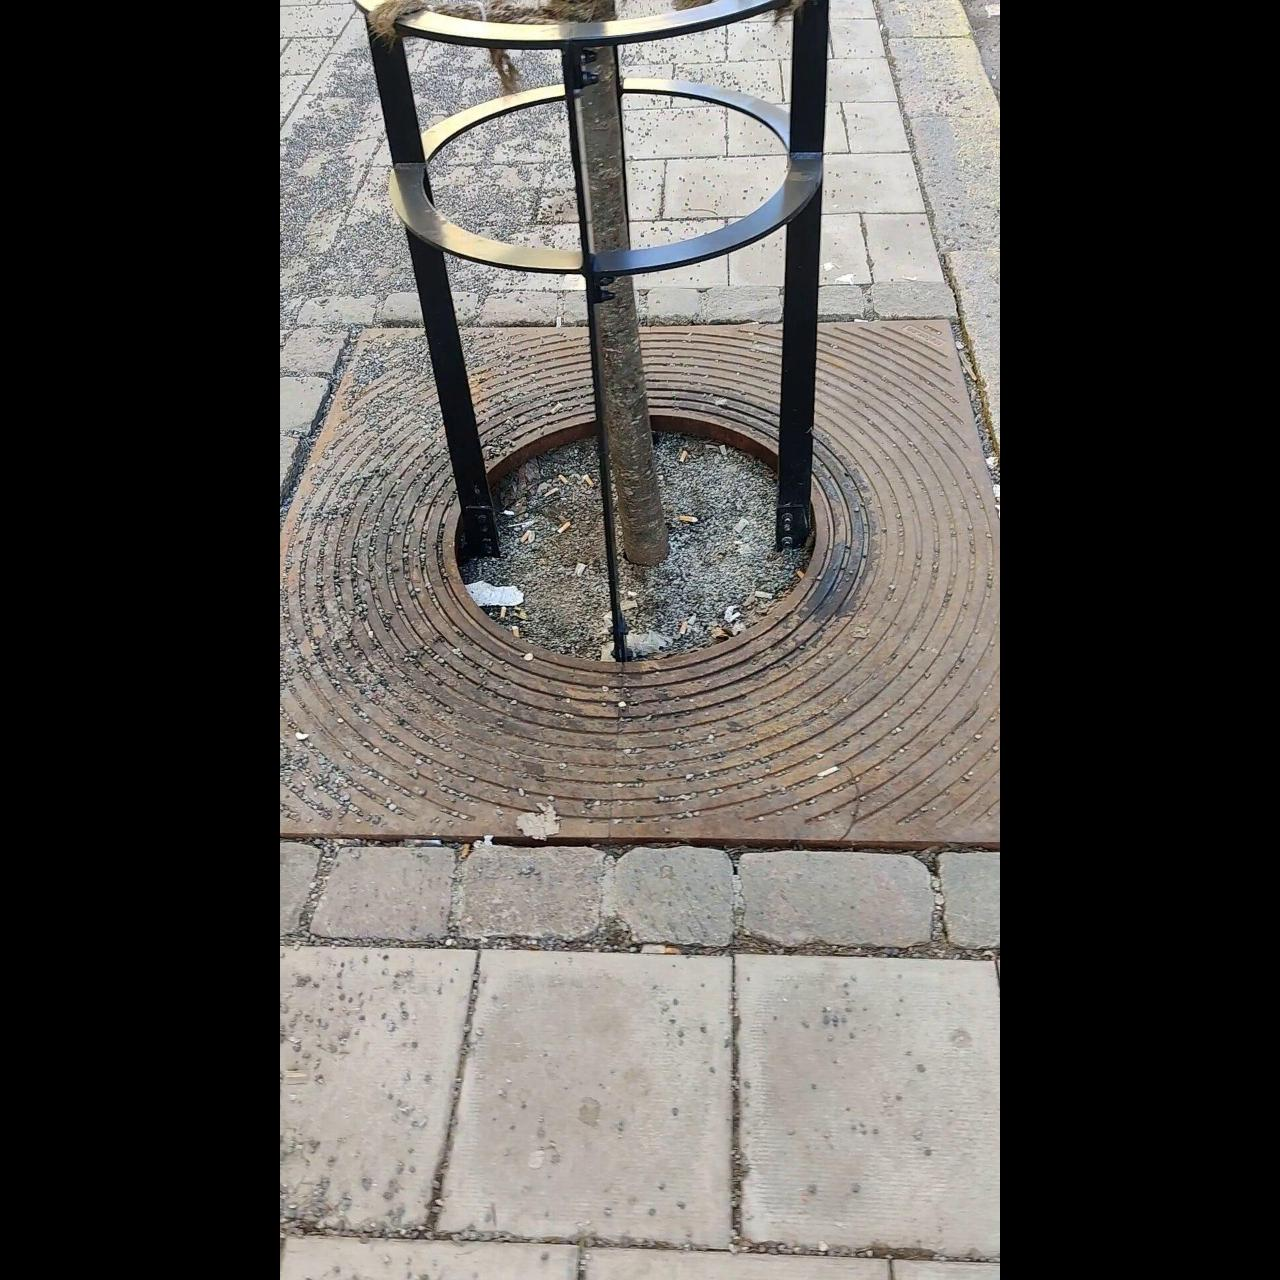cigarettes_butts: (680, 514, 700, 524), (678, 448, 688, 464), (678, 620, 688, 636), (585, 474, 595, 488), (519, 530, 529, 544), (558, 473, 568, 485), (559, 522, 569, 534), (756, 592, 774, 598), (512, 624, 520, 636), (500, 606, 506, 620), (796, 572, 806, 578)
others: (816, 764, 840, 780), (573, 563, 585, 579)
